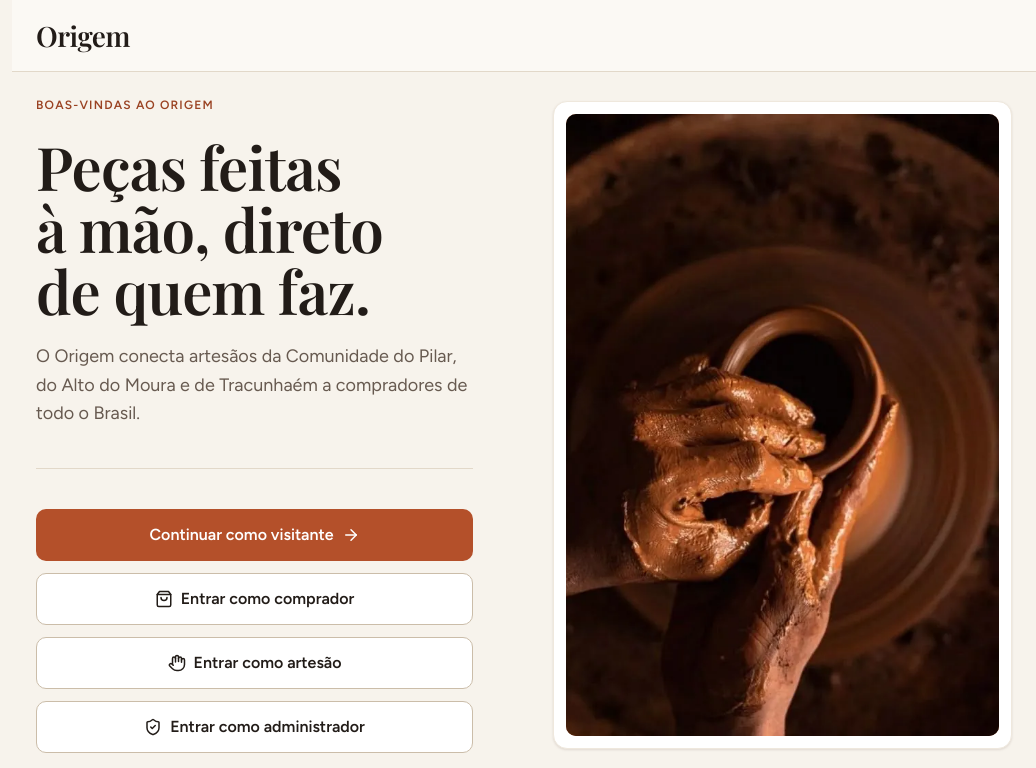
GateAcesso › clicar em continuar como visitante grava a escolha e libera o conteudo
This screenshot has width=1036, height=768.
Click the button "Continuar como visitante".
click(255, 535)  # box [36,509,473,561]
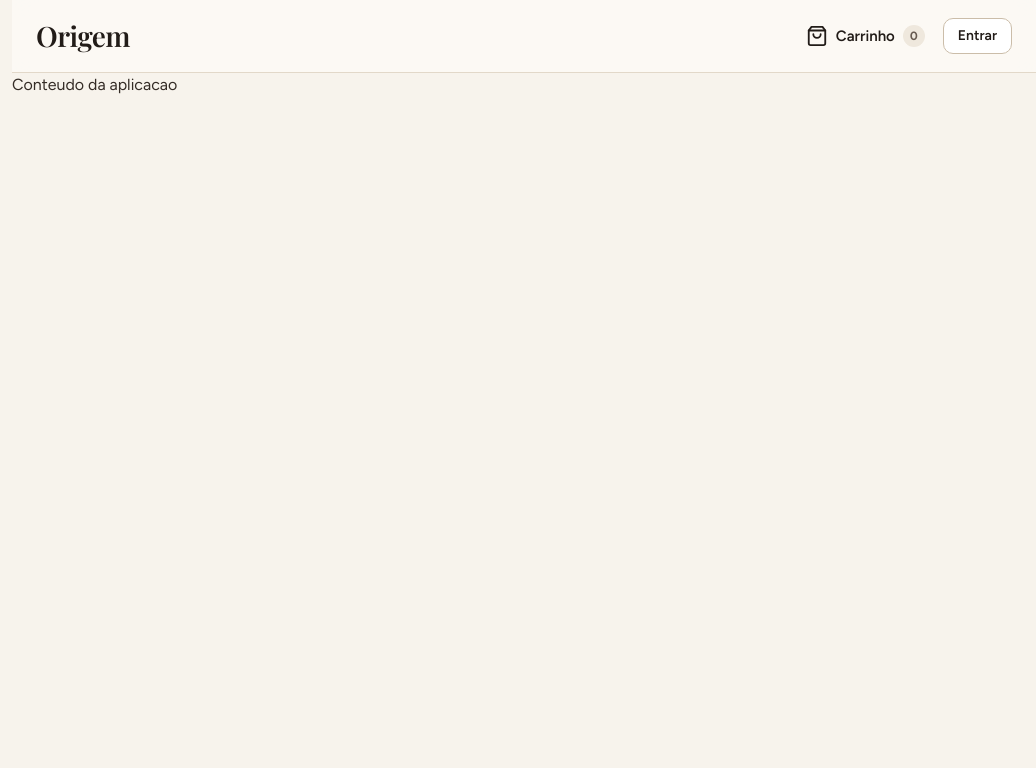
Result: the text "Conteudo da aplicacao" is shown at [12,75,177,94]
